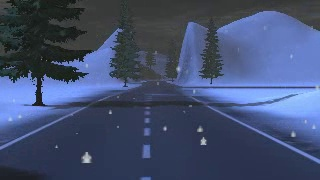Lane: (0, 80, 319, 178)
